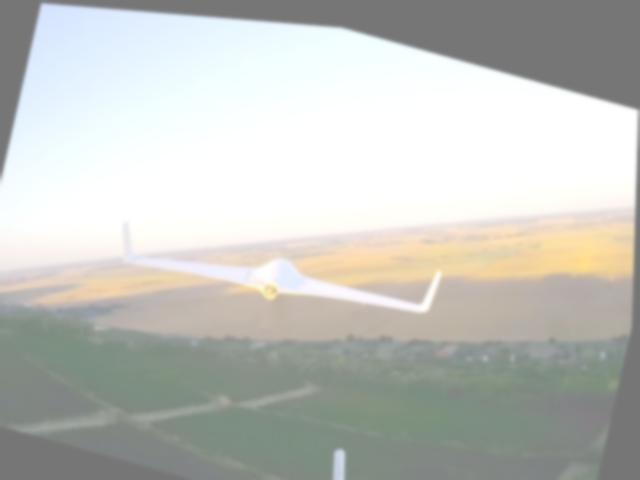plane: (116, 182, 445, 337)
